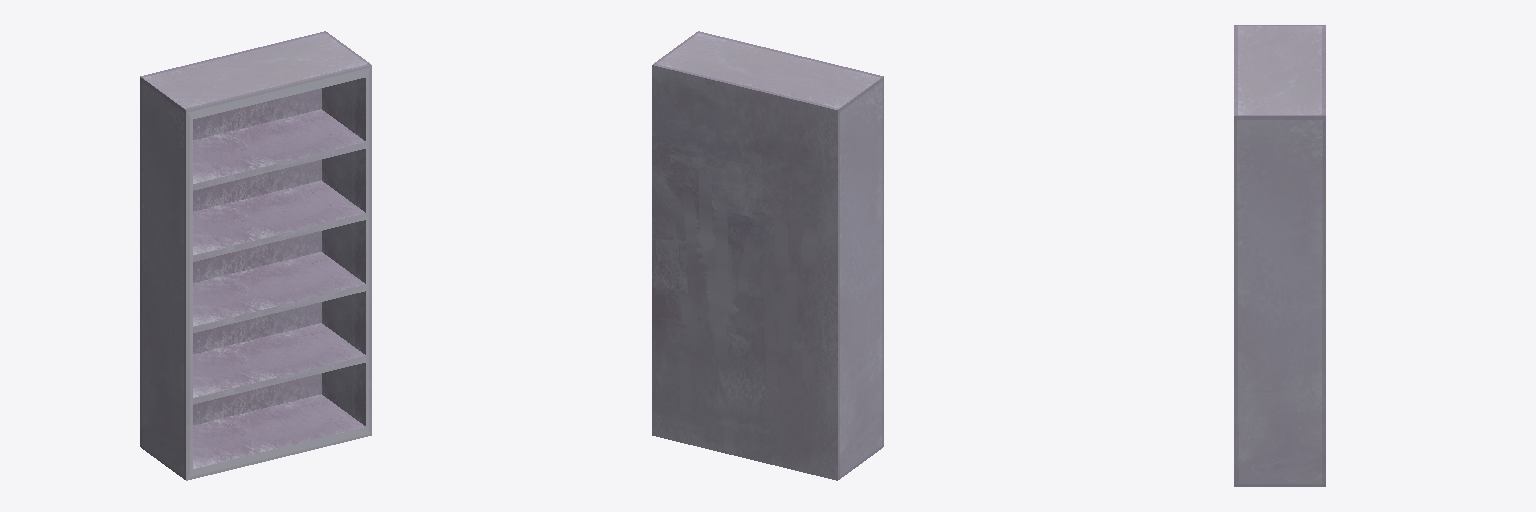
3 renders of one model, left to right at view 1: azimuth 30°, elevation 25°; view 2: azimuth 150°, elevation 25°; view 3: azimuth 270°, elevation 25°, orthographic.
Parts seen in each view (by area): view 1: ShelfMedium; view 2: ShelfMedium; view 3: ShelfMedium.
Part boxes in pixels (left/top/right/bottom): ShelfMedium: left=140, top=31, right=371, bottom=480; ShelfMedium: left=652, top=31, right=883, bottom=480; ShelfMedium: left=1234, top=25, right=1325, bottom=486.
Bounding box in the file's own units: 1.88 × 3.59 × 0.8128.
1 materials, 1 textured.